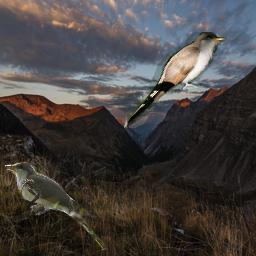Cuckoo: (123, 32, 227, 128), (4, 162, 106, 250)
